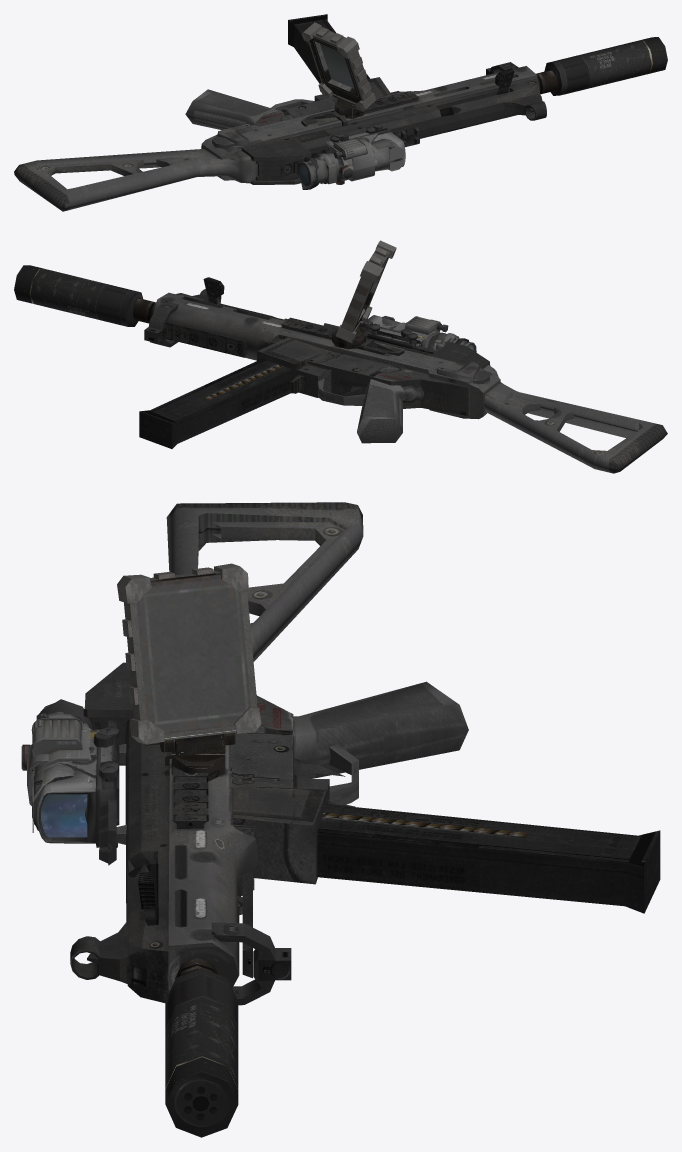
The model's file is weapon_ump45_red_urban_LOD0.obj.
3 renders of one model, top to bottom at view 1: azimuth 30°, elevation 25°; view 2: azimuth 150°, elevation 25°; view 3: azimuth 270°, elevation 25°, orthographic. The views are drawn at different scales.
Parts seen in each view (by area): view 1: mtl_weapon_ump45_red_urban, mtl_weapon_suppressor_b, mtl_weapon_motion_tracker_red_urban, mtl_weapon_acog_2_red_urban, mtl_weapon_thermal_sight_2_red_urban, mtl_weapon_eotech_2_red_urban, mtl_weapon_red_dot_sight_red_urban; view 2: mtl_weapon_ump45_red_urban, mtl_weapon_suppressor_b, mtl_weapon_motion_tracker_red_urban, mtl_weapon_thermal_sight_2_red_urban, mtl_weapon_acog_2_red_urban, mtl_weapon_eotech_2_red_urban, mtl_weapon_red_dot_sight_red_urban; view 3: mtl_weapon_ump45_red_urban, mtl_weapon_motion_tracker_red_urban, mtl_weapon_suppressor_b, mtl_weapon_thermal_sight_2_red_urban, mtl_weapon_red_dot_sight_red_urban, mtl_weapon_reflex_lens, mtl_weapon_eotech_2_red_urban, mtl_weapon_acog_2_red_urban.
Part boxes in pixels (x1,y1,x2,y2): mtl_weapon_ump45_red_urban: [14, 14, 558, 211]; mtl_weapon_suppressor_b: [544, 37, 667, 95]; mtl_weapon_motion_tracker_red_urban: [302, 22, 376, 118]; mtl_weapon_acog_2_red_urban: [298, 126, 402, 186]; mtl_weapon_thermal_sight_2_red_urban: [301, 133, 404, 189]; mtl_weapon_eotech_2_red_urban: [326, 132, 377, 181]; mtl_weapon_red_dot_sight_red_urban: [333, 123, 405, 166]; mtl_weapon_ump45_red_urban: [133, 277, 667, 473]; mtl_weapon_suppressor_b: [14, 265, 142, 326]; mtl_weapon_motion_tracker_red_urban: [332, 240, 396, 349]; mtl_weapon_thermal_sight_2_red_urban: [383, 315, 469, 350]; mtl_weapon_acog_2_red_urban: [364, 317, 476, 352]; mtl_weapon_eotech_2_red_urban: [363, 322, 425, 348]; mtl_weapon_red_dot_sight_red_urban: [358, 315, 420, 347]; mtl_weapon_ump45_red_urban: [70, 502, 660, 1005]; mtl_weapon_motion_tracker_red_urban: [117, 563, 261, 780]; mtl_weapon_suppressor_b: [165, 968, 238, 1137]; mtl_weapon_thermal_sight_2_red_urban: [29, 699, 113, 832]; mtl_weapon_red_dot_sight_red_urban: [36, 727, 117, 847]; mtl_weapon_reflex_lens: [41, 794, 87, 837]; mtl_weapon_eotech_2_red_urban: [27, 729, 119, 825]; mtl_weapon_acog_2_red_urban: [21, 703, 118, 830].
Bounding box in the file's own units: 87.42 × 17.44 × 39.82.
